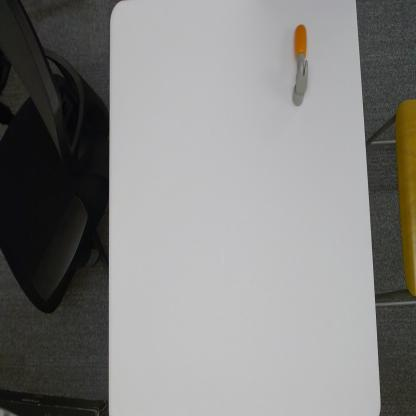Hammer: (292, 22, 310, 107)
